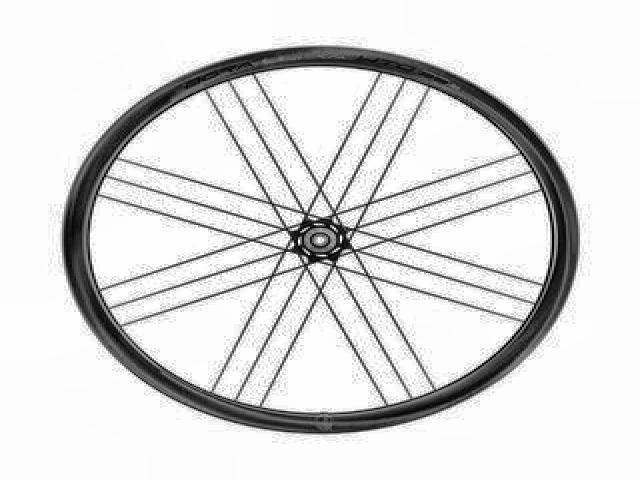wheel: (57, 39, 587, 440)
